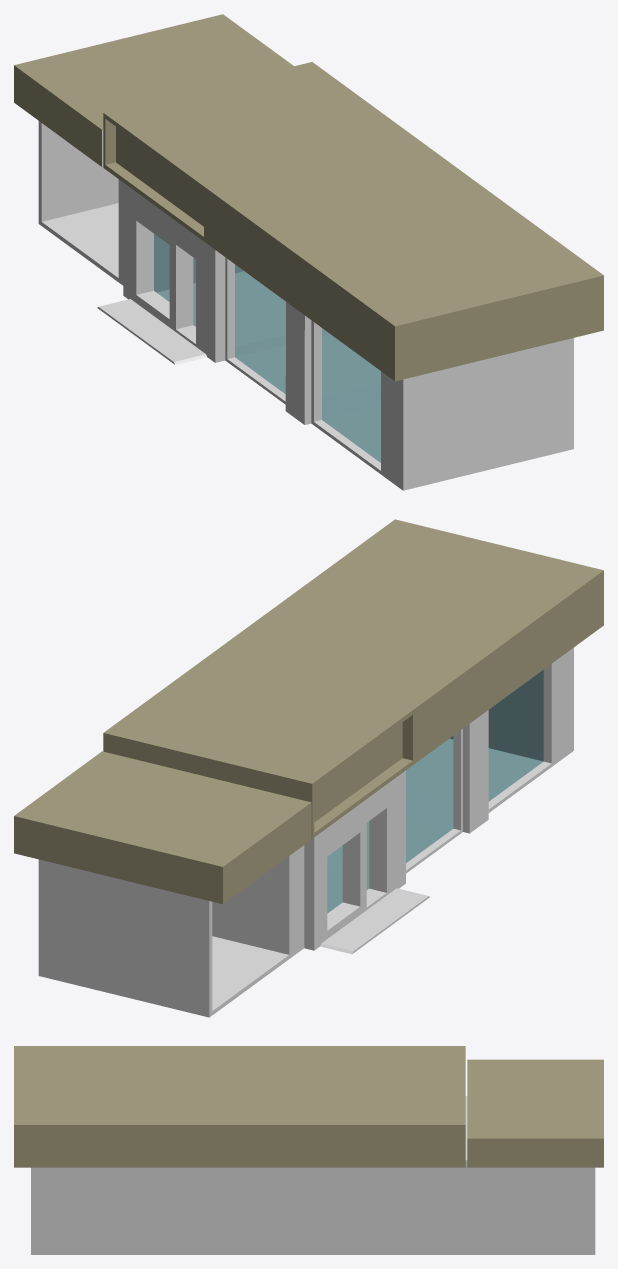
File: ChaseBuilding 1.fbx
3 renders of one model, top to bottom at view 1: azimuth 30°, elevation 25°; view 2: azimuth 150°, elevation 25°; view 3: azimuth 270°, elevation 25°, orthographic. The views are drawn at different scales.
Parts seen in each view (by area): view 1: pCube101; view 2: pCube101; view 3: pCube101.
Boxes of the visible parts, bbox=[...] form: pCube101: bbox=[14, 14, 603, 490]; pCube101: bbox=[14, 519, 603, 1017]; pCube101: bbox=[14, 1046, 603, 1254].
Bounding box in the file's own units: 8.7 × 6.34 × 24.71.
